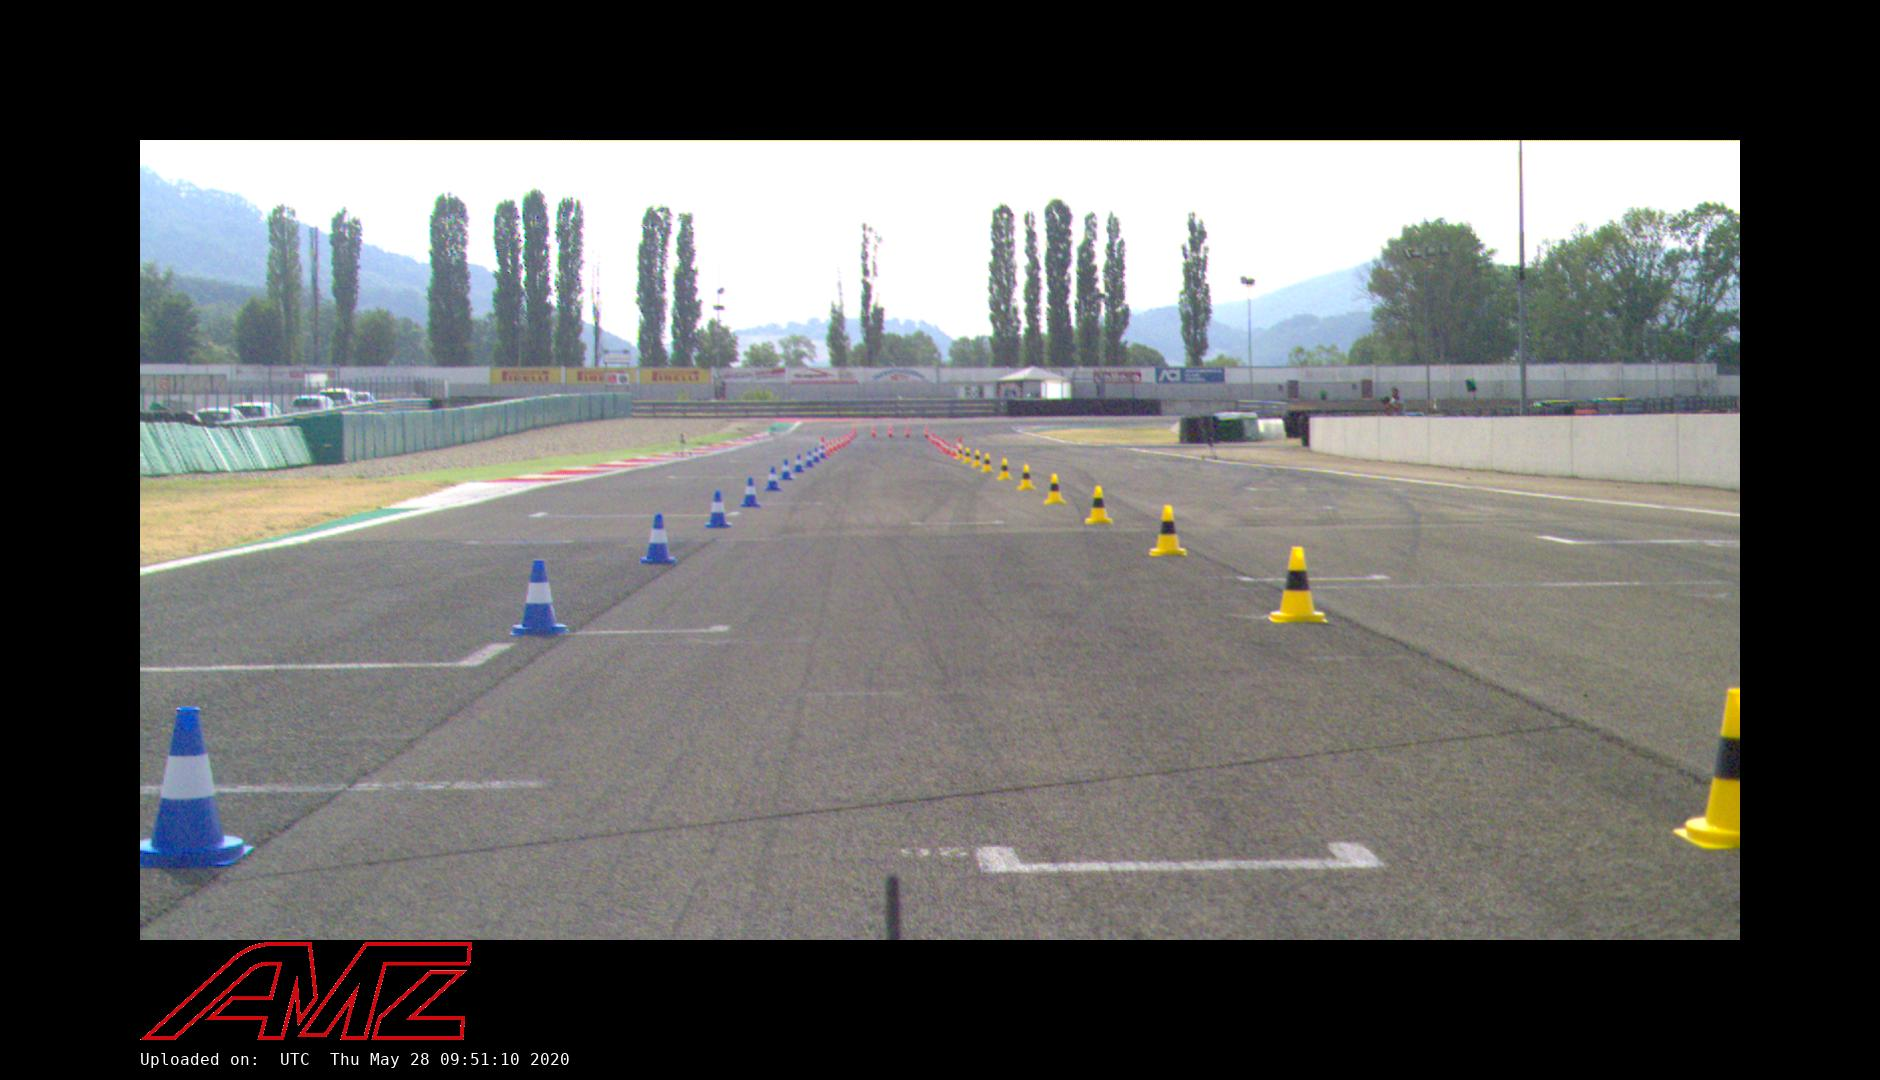blue_cone: (140, 705, 256, 867), (508, 559, 571, 637), (638, 514, 678, 566), (704, 490, 733, 529), (740, 477, 761, 508), (764, 465, 782, 491), (779, 459, 794, 481), (792, 454, 805, 472), (803, 451, 815, 468)
yellow_cone: (1674, 688, 1739, 852), (1268, 545, 1329, 625), (1148, 504, 1188, 557), (1084, 485, 1114, 526), (1043, 473, 1068, 506), (1017, 463, 1037, 491), (996, 457, 1013, 482), (980, 453, 995, 473), (971, 449, 984, 468)
